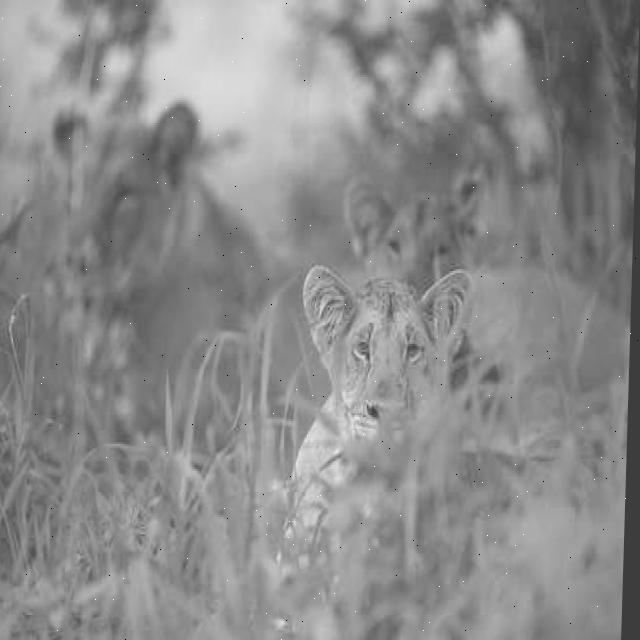Lion: (301, 205, 480, 504), (41, 109, 211, 310)
